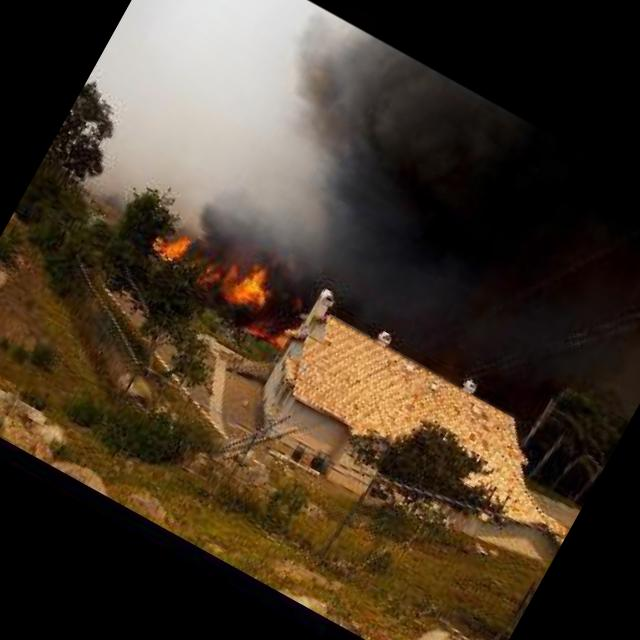fire: (134, 205, 286, 334)
smoke: (200, 3, 640, 436)
